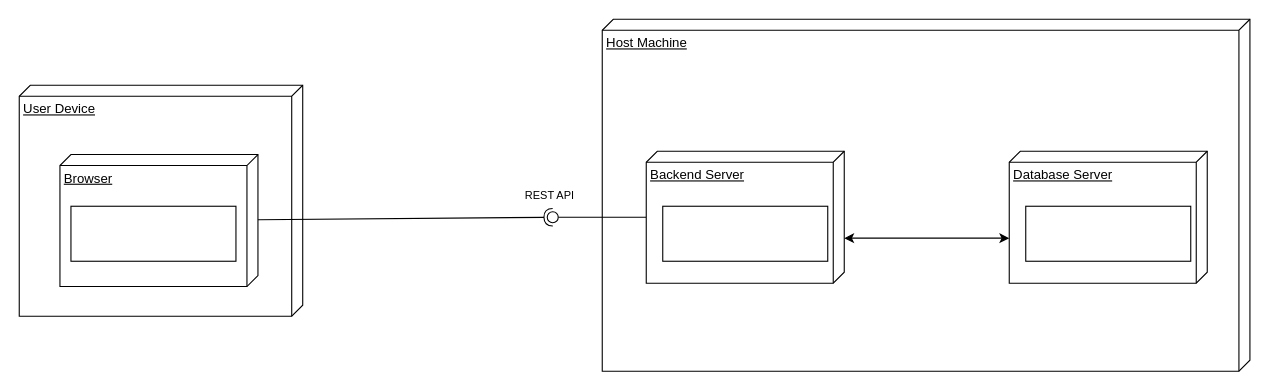
Image size: 1269x391. Some labels were removed from this diagram. The centre of each missing label's shape, as x and y in pixels:
<<artifact>> Django: [745,233]
<<artifact>> PostgreSQL: [1108,233]
<<artifact>> React: [153,233]
